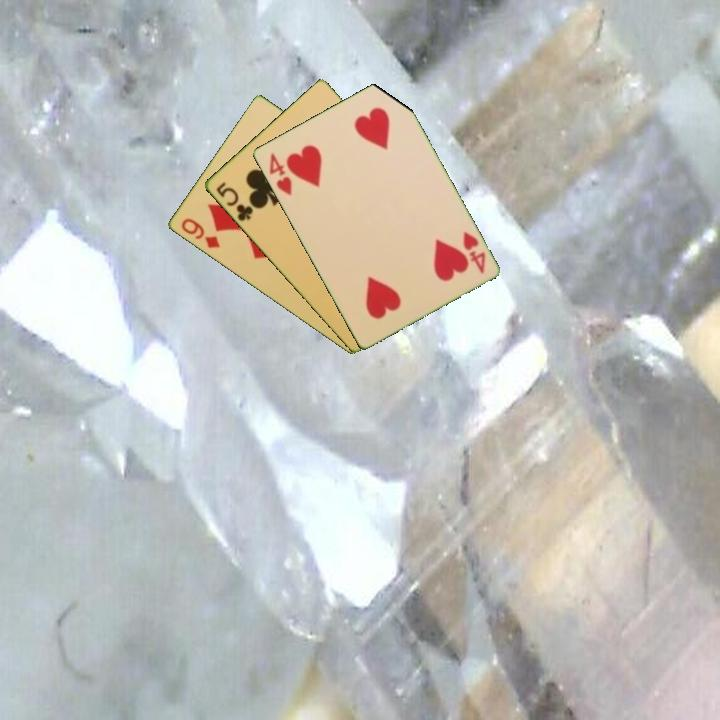4h: (265, 149, 294, 198), (459, 227, 488, 276)
5c: (212, 179, 256, 224)
9d: (177, 215, 223, 251)
